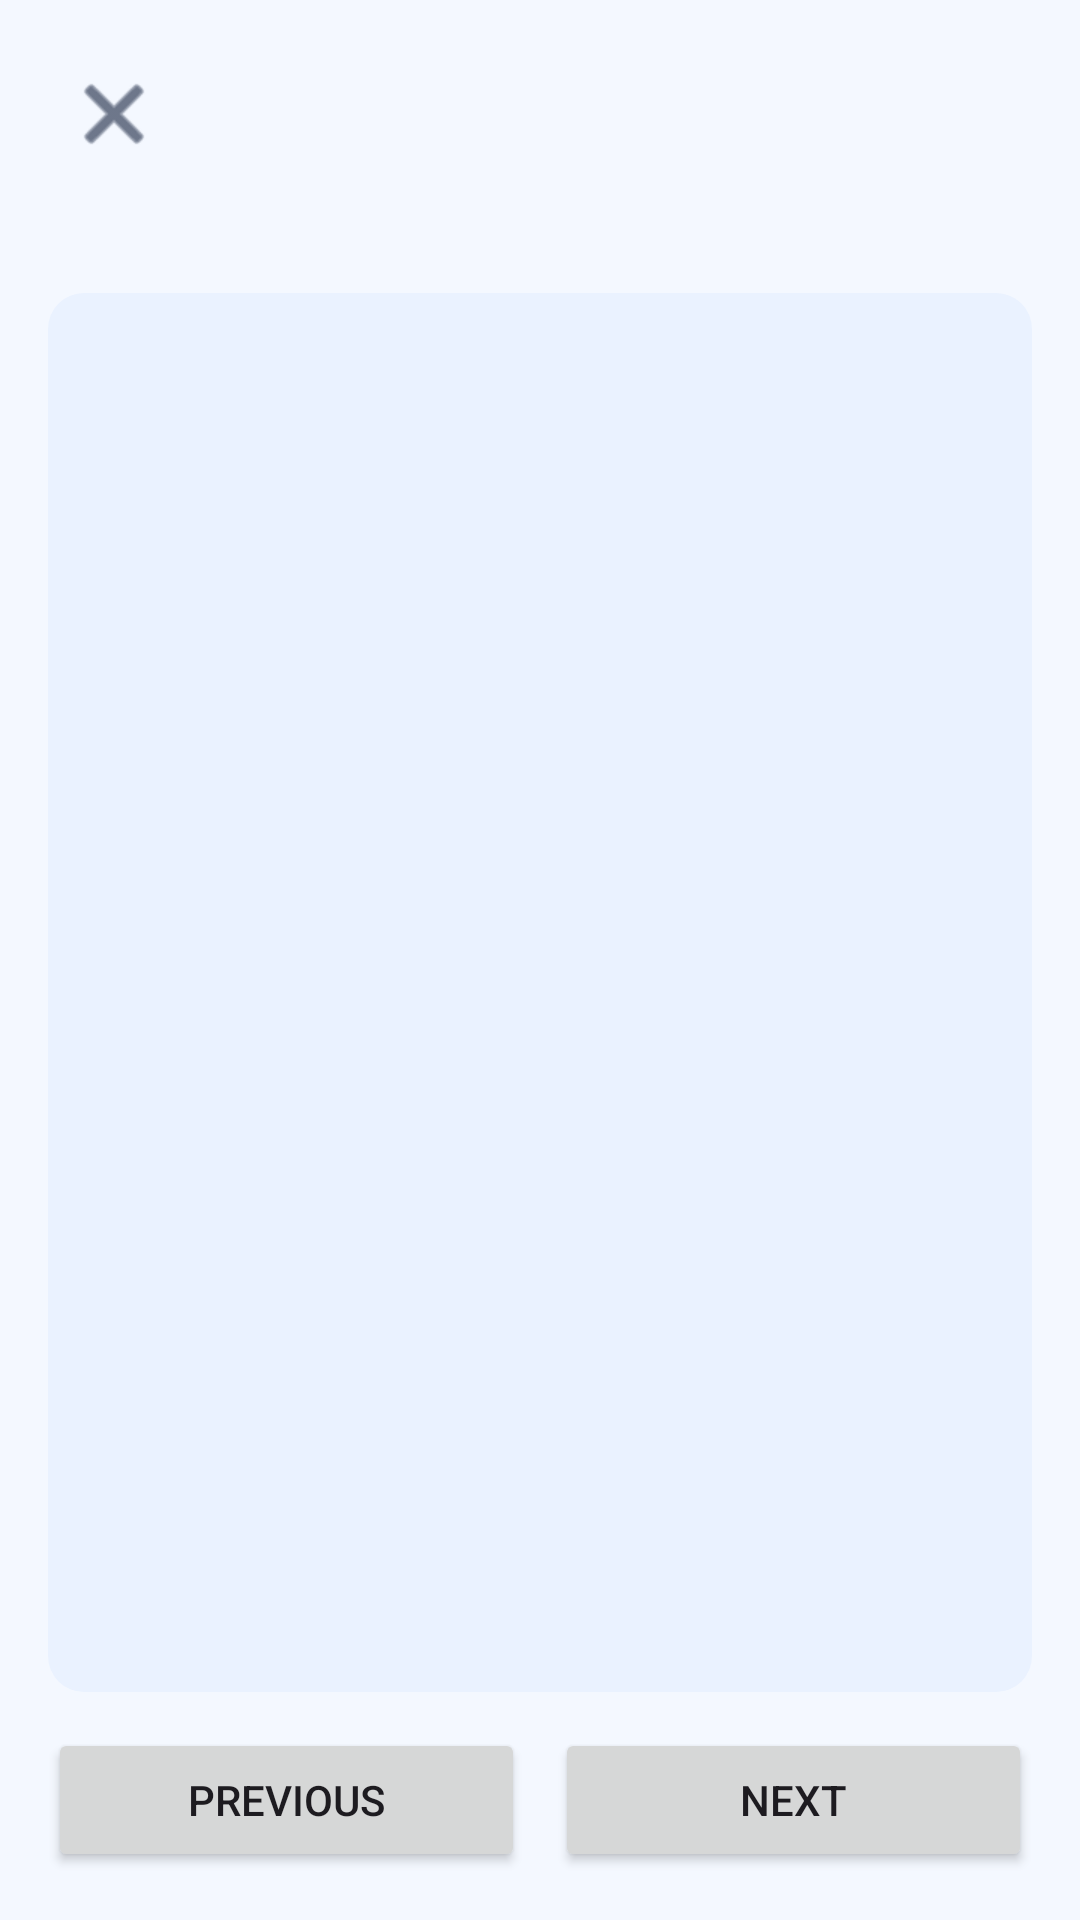

Icons on this 1080*1920 Android screen, each with the point to tap as point (x, y):
Close: point (114, 114)
